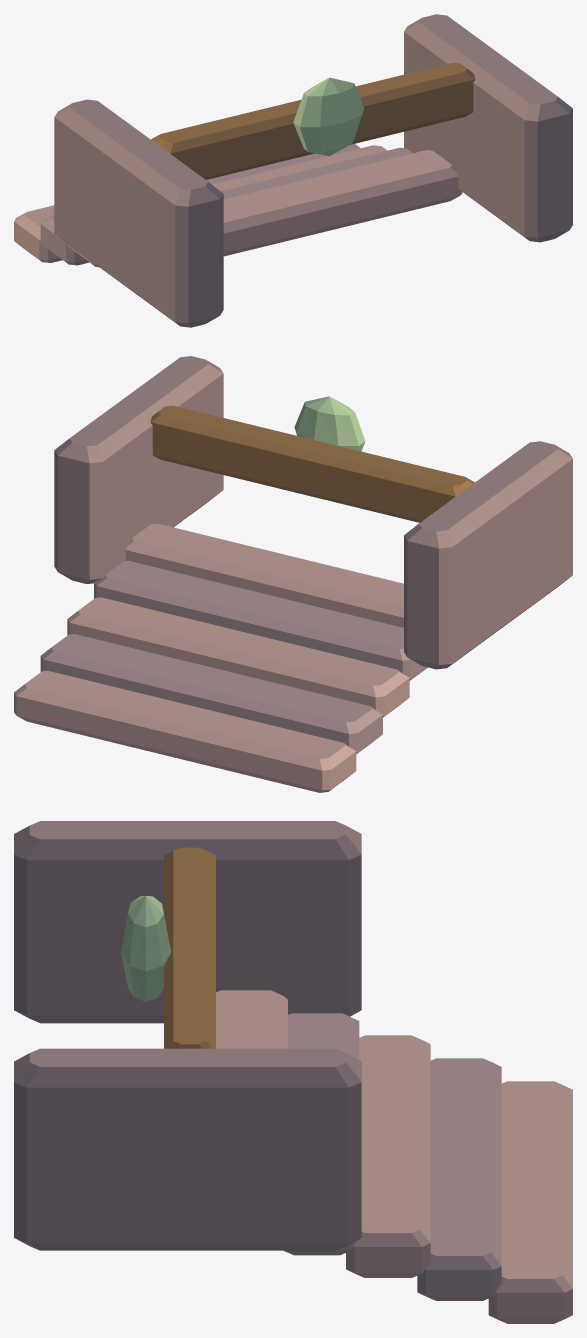
File: dusk_open.glb
3 views of the same model, one above another, from view 1: azimuth 30°, elevation 25°; view 2: azimuth 150°, elevation 25°; view 3: azimuth 270°, elevation 25° (orthographic). The views are drawn at different scales.
Parts seen in each view (by area): view 1: Freigegebener Abstieg; view 2: Freigegebener Abstieg; view 3: Freigegebener Abstieg.
Boxes of the visible parts, x1=… form: Freigegebener Abstieg: x1=14, y1=14, x2=572, y2=327; Freigegebener Abstieg: x1=14, y1=356, x2=572, y2=792; Freigegebener Abstieg: x1=14, y1=821, x2=572, y2=1323.
Size of the model in its own units: 1.48 by 0.877 by 1.35.
